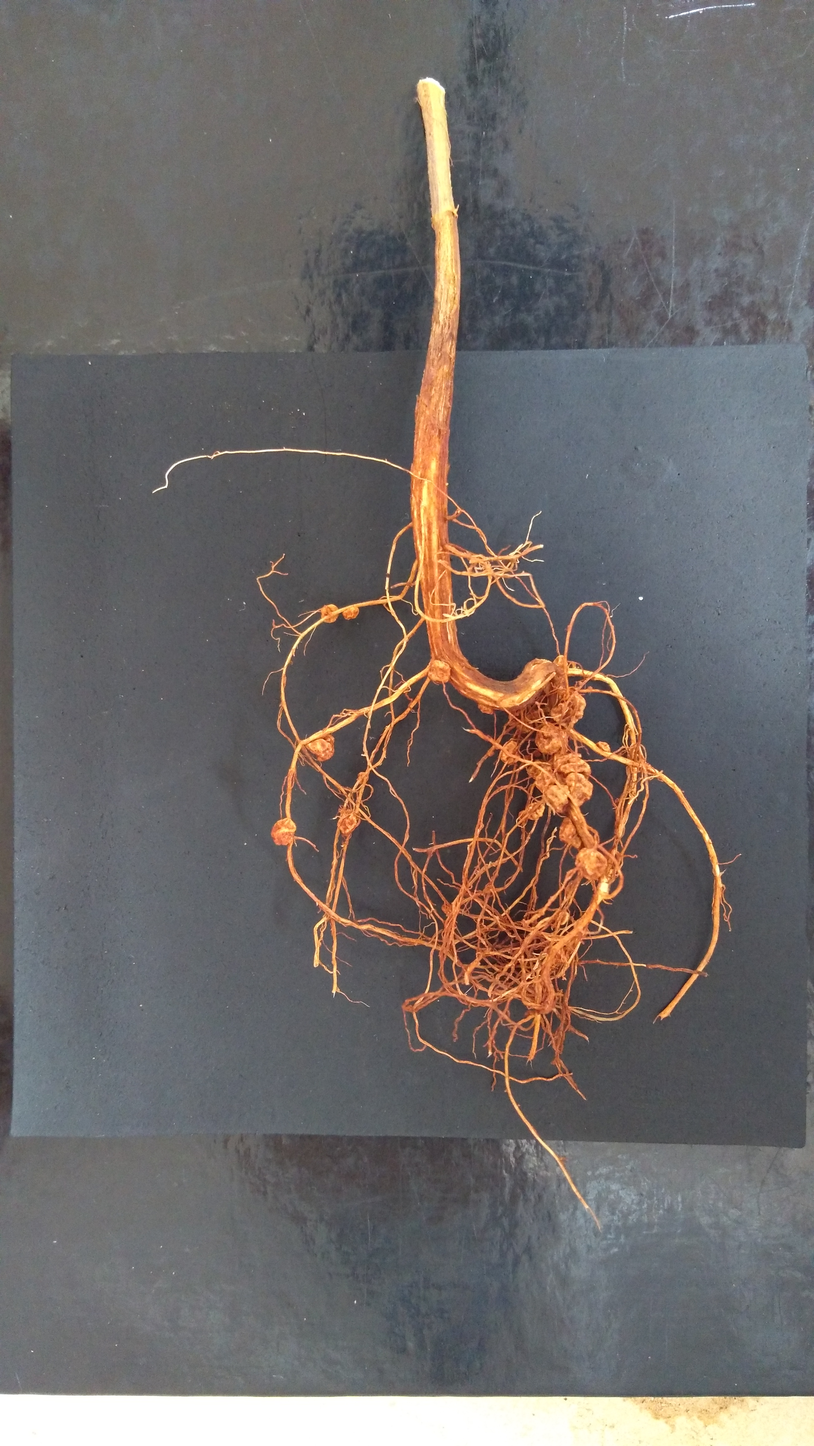nodule: (549, 691, 586, 729), (551, 749, 592, 780), (574, 847, 608, 881), (534, 721, 568, 754), (522, 976, 556, 1009), (304, 730, 335, 761), (565, 771, 594, 804), (543, 784, 572, 814), (559, 815, 583, 848), (534, 770, 569, 792), (538, 945, 568, 970), (271, 817, 296, 846), (575, 825, 601, 852), (336, 808, 361, 834), (427, 658, 450, 684), (527, 759, 554, 781), (499, 740, 522, 765), (525, 801, 546, 820), (321, 603, 339, 623), (508, 707, 526, 727), (553, 654, 569, 674), (516, 716, 533, 733), (595, 740, 611, 758), (553, 909, 569, 927), (342, 606, 360, 620), (477, 702, 495, 715), (613, 823, 626, 840), (483, 882, 496, 897), (356, 771, 369, 784), (441, 902, 453, 915), (518, 809, 529, 820), (534, 752, 543, 758), (613, 797, 620, 804), (488, 749, 494, 756), (578, 680, 585, 686), (556, 686, 564, 691), (587, 686, 594, 691)
